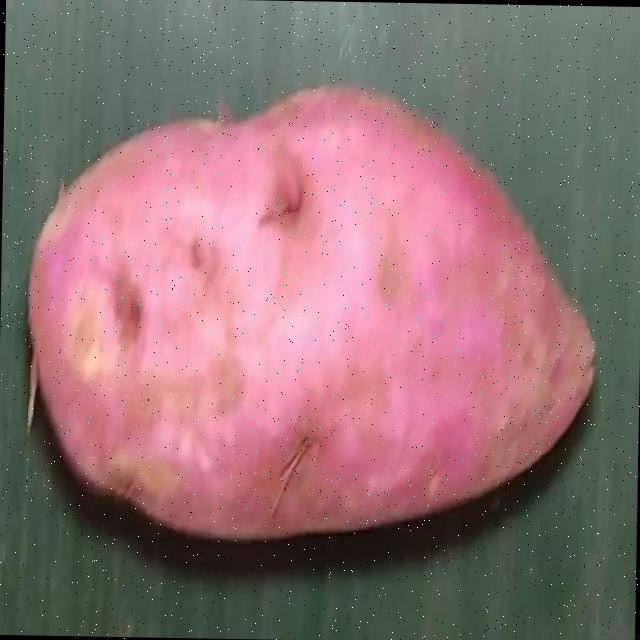Sweet Potato: (30, 82, 598, 543)
